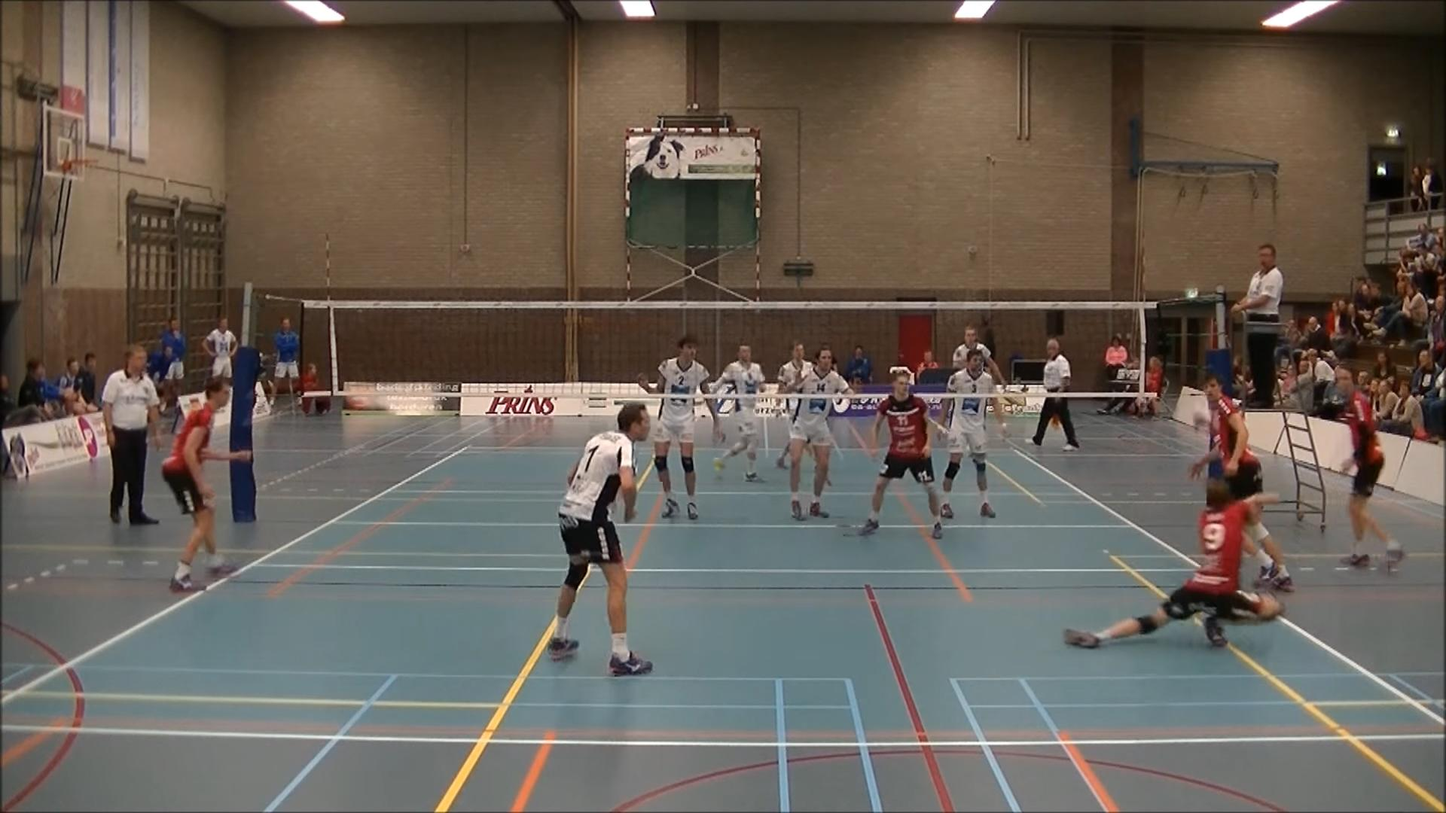Player: (548, 403, 652, 675), (161, 377, 250, 592), (1335, 365, 1405, 571), (859, 370, 942, 539), (637, 336, 709, 519), (780, 349, 851, 520), (941, 346, 1008, 518), (1190, 373, 1262, 500), (714, 344, 765, 481), (776, 341, 812, 391)
Receive: (1058, 466, 1311, 656)
